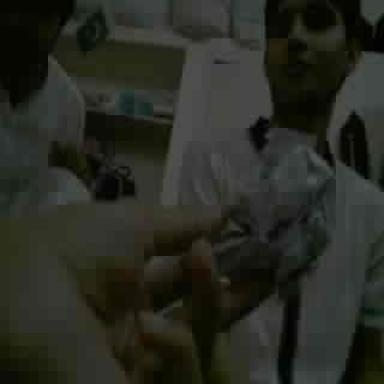paper: (214, 141, 337, 293)
